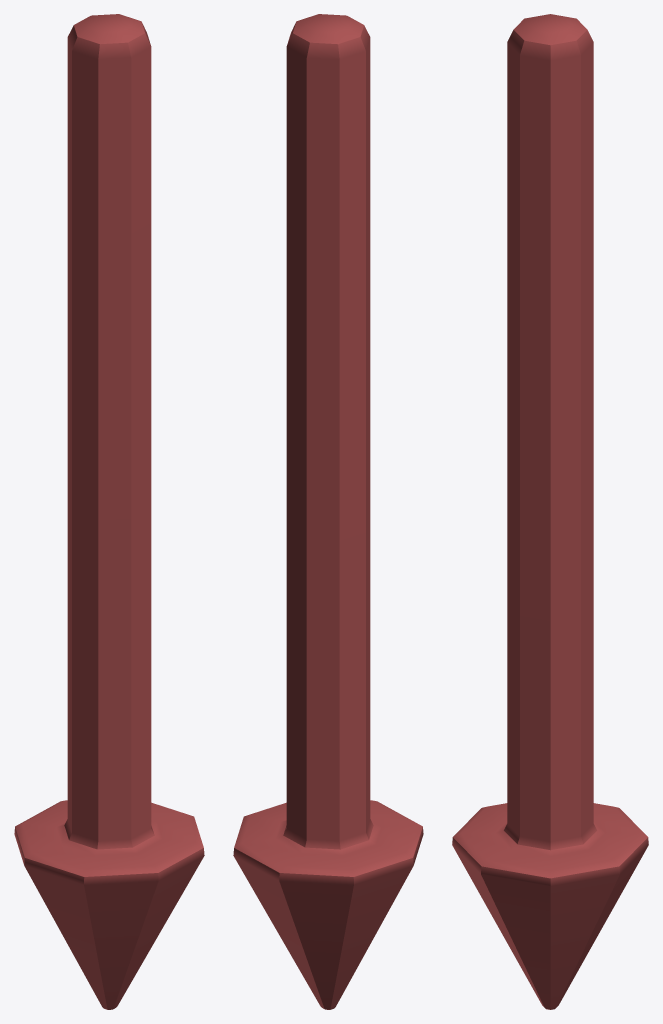
The model's file is Arrow.fbx.
3 views of the same model, side by side, from view 1: azimuth 30°, elevation 25°; view 2: azimuth 150°, elevation 25°; view 3: azimuth 270°, elevation 25° (orthographic).
Visible parts, largest first — view 1: pCylinder1; view 2: pCylinder1; view 3: pCylinder1.
Part boxes in pixels (<box>): pCylinder1: <box>14,14,204,1009</box>; pCylinder1: <box>233,14,423,1009</box>; pCylinder1: <box>452,14,648,1009</box>.
Bounding box in the file's own units: 4.54 × 25.06 × 4.54.
